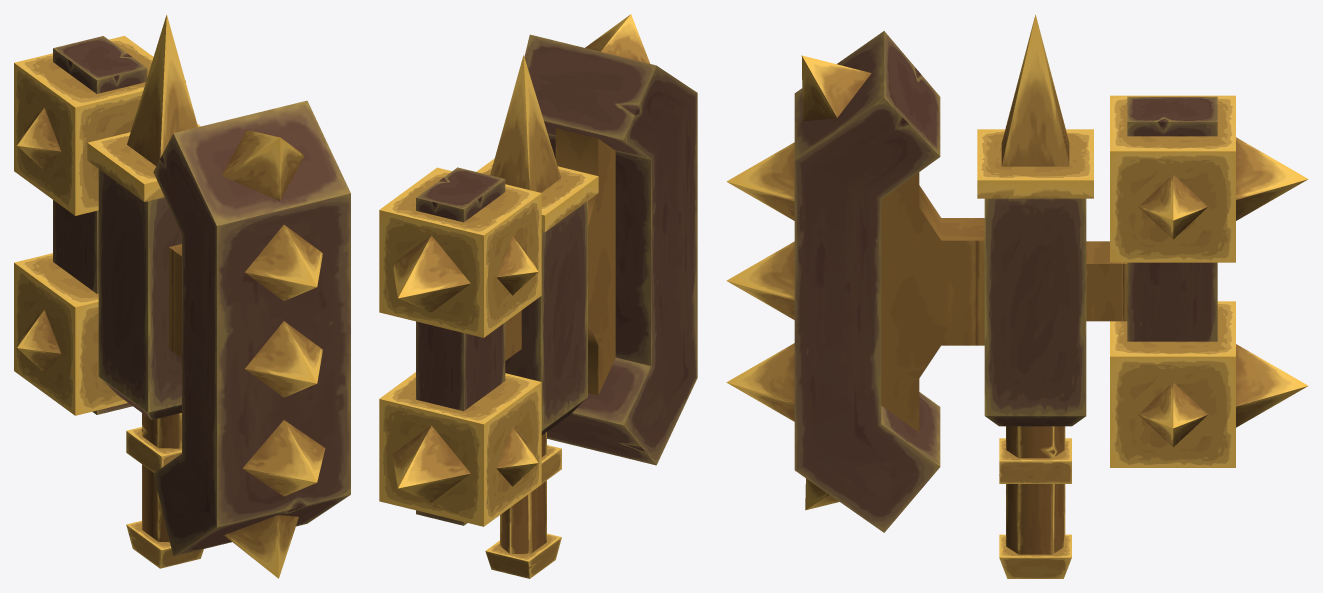
Rendered from SM_WEP_head_hammer_battle_07.fbx.
The picture shows the model from 3 angles, left to right: view 1: azimuth 30°, elevation 25°; view 2: azimuth 150°, elevation 25°; view 3: azimuth 270°, elevation 25°; orthographic projection. The views are drawn at different scales.
Parts seen in each view (by area): view 1: SM_WEP_head_hammer_battle_07; view 2: SM_WEP_head_hammer_battle_07; view 3: SM_WEP_head_hammer_battle_07.
Part boxes in pixels (bbox=[...]): SM_WEP_head_hammer_battle_07: bbox=[14, 14, 350, 578]; SM_WEP_head_hammer_battle_07: bbox=[379, 14, 697, 578]; SM_WEP_head_hammer_battle_07: bbox=[726, 14, 1308, 578].
Bounding box in the file's own units: 18.88 × 58.88 × 56.03.
